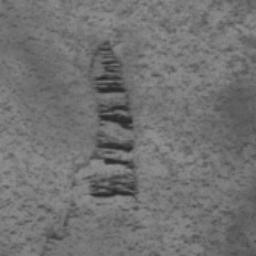Secondary rust skin: (92, 59, 132, 95), (88, 174, 140, 199), (97, 101, 135, 131), (95, 137, 136, 153), (102, 157, 136, 170), (93, 40, 113, 57)
